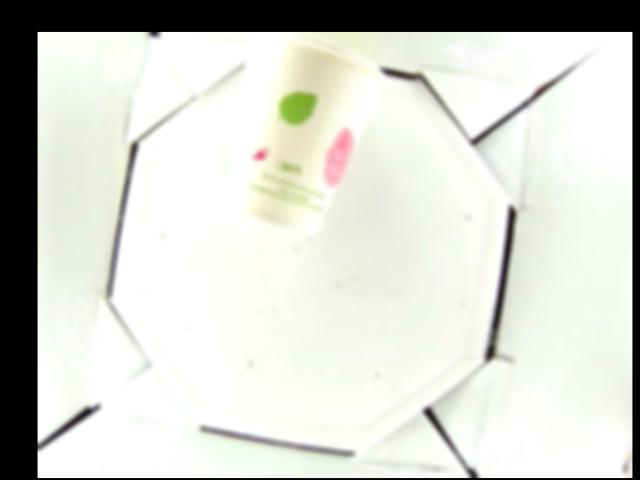Cup: (214, 32, 382, 237)
